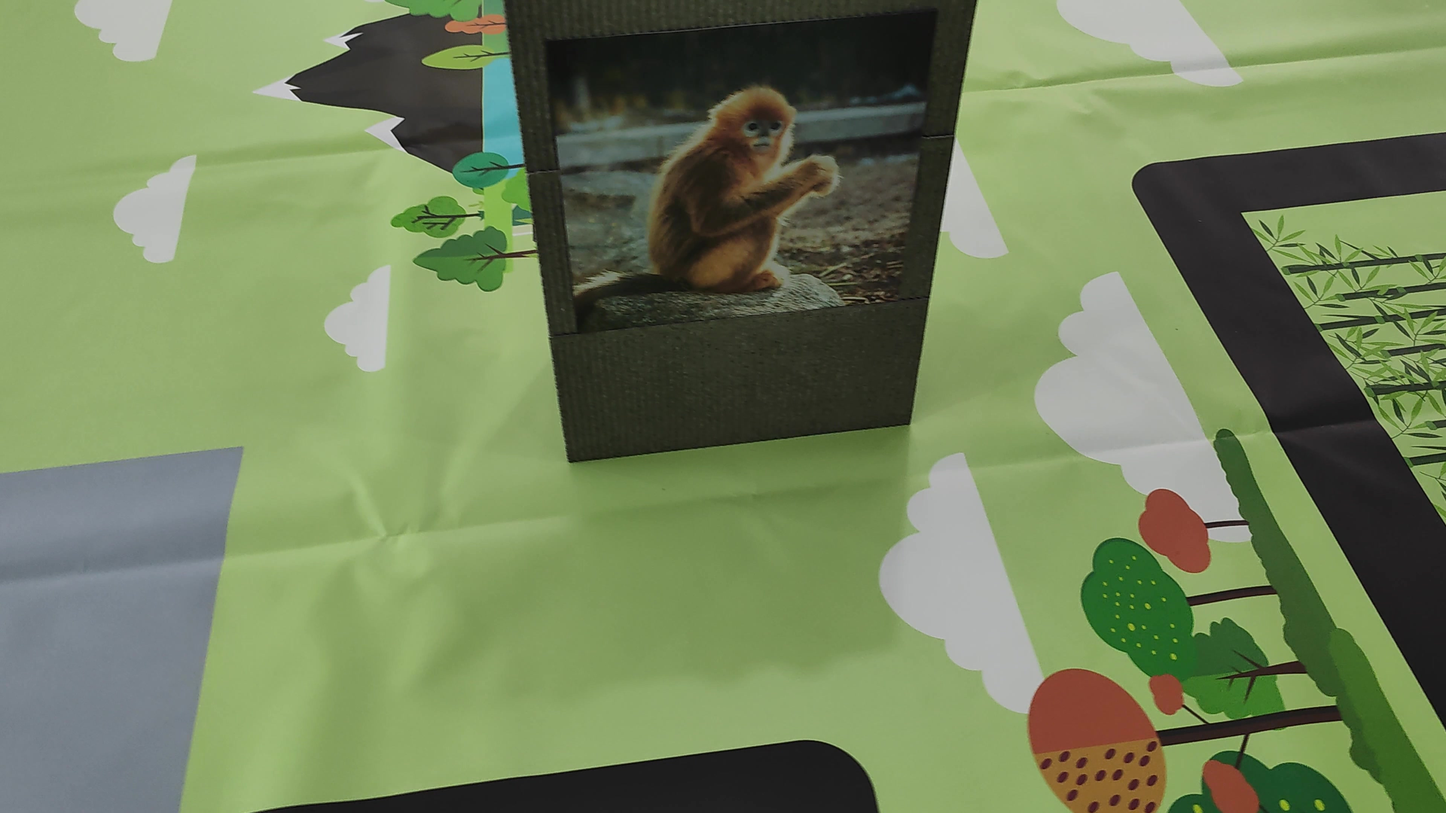monkey: (604, 65, 876, 383)
